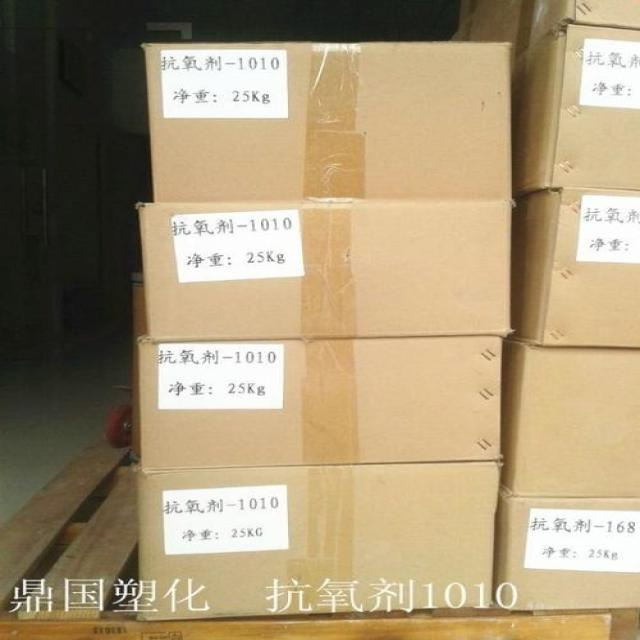box: (136, 462, 502, 623), (143, 42, 511, 201), (137, 202, 513, 340), (134, 334, 503, 472), (512, 23, 640, 197), (503, 338, 640, 497), (513, 186, 640, 345), (494, 488, 640, 611)
